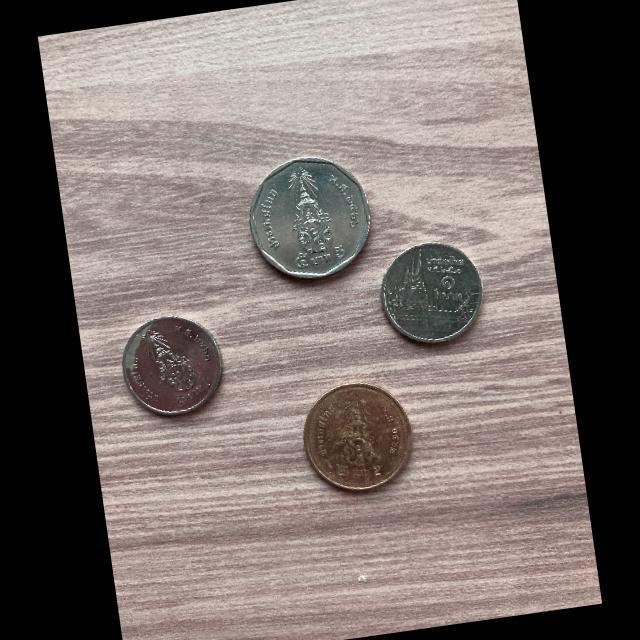1 Bath: (120, 313, 226, 421), (381, 240, 485, 350)
2 Bath: (302, 377, 415, 497)
5 Bath: (250, 156, 375, 285)
